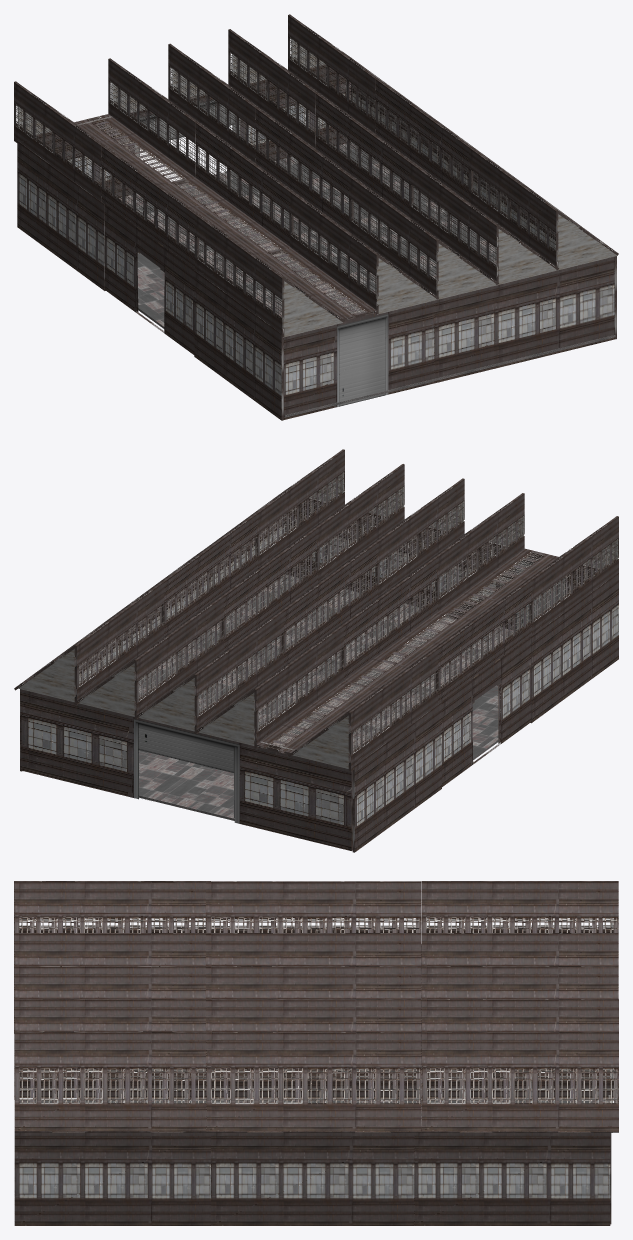
The model's file is Warehouse-open.fbx.
3 views of the same model, one above another, from view 1: azimuth 30°, elevation 25°; view 2: azimuth 150°, elevation 25°; view 3: azimuth 270°, elevation 25° (orthographic). The views are drawn at different scales.
Parts seen in each view (by area): view 1: Factory002, Object001; view 2: Factory002, Object001; view 3: Factory002, Object001.
Part boxes in pixels (x1,y1,x2,y2): Factory002: (14,14,618,420); Object001: (119,142,615,417); Factory002: (14,449,618,852); Object001: (139,575,513,820); Factory002: (14,881,618,1225); Object001: (19,1067,609,1126).
Size of the model in its own units: 3188 by 1291 by 4396.
Materials: 7 (7 with a texture image).
